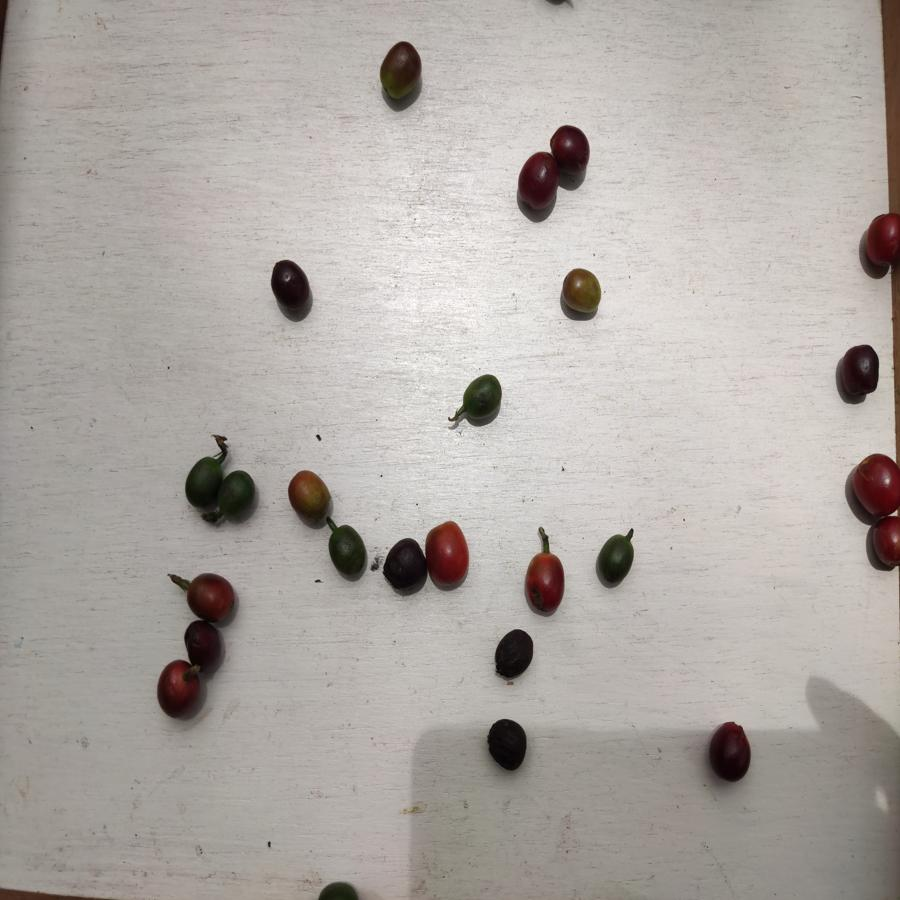Inmaduro: (326, 524, 368, 582), (594, 531, 636, 587), (215, 467, 259, 517), (462, 372, 502, 423), (185, 457, 220, 512)
Maduro: (850, 452, 900, 522), (424, 520, 469, 591), (522, 551, 567, 614), (863, 211, 900, 272), (870, 511, 900, 570)
Pinton: (376, 40, 424, 102), (286, 468, 334, 529), (556, 264, 602, 320)
Sobremaduro: (704, 719, 756, 784), (514, 152, 561, 214), (181, 572, 238, 621), (156, 661, 202, 720), (268, 256, 313, 313), (380, 536, 425, 592), (838, 344, 883, 397), (485, 717, 530, 770), (490, 629, 535, 680), (549, 122, 592, 174), (183, 620, 224, 672)
